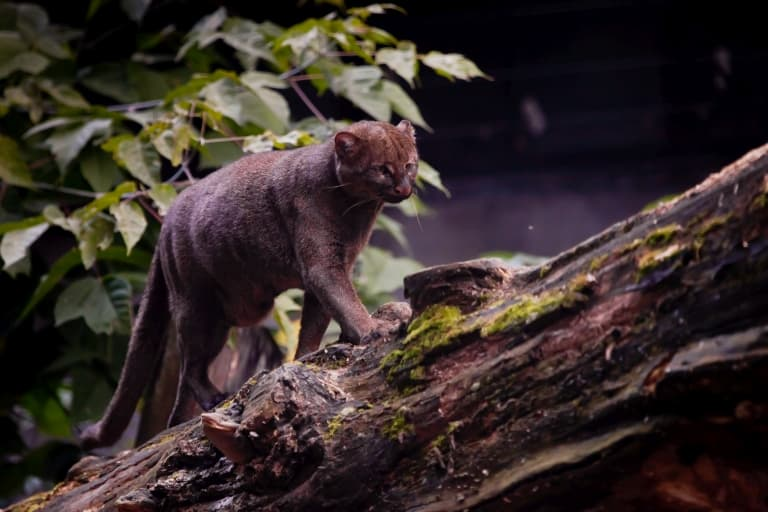Jaguarundi: (77, 117, 423, 412)
